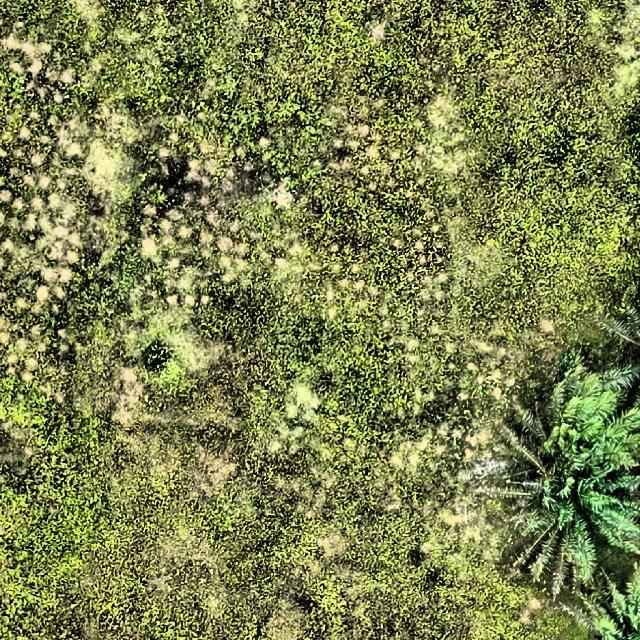Kelapa_Sawit: (517, 356, 640, 592)
